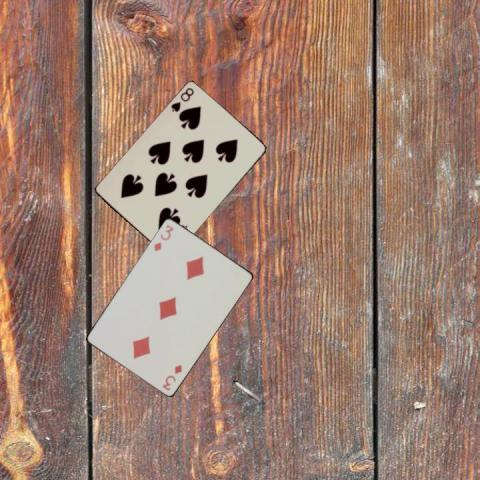3d: (151, 221, 175, 253), (160, 362, 184, 392)
8s: (168, 85, 195, 114)
